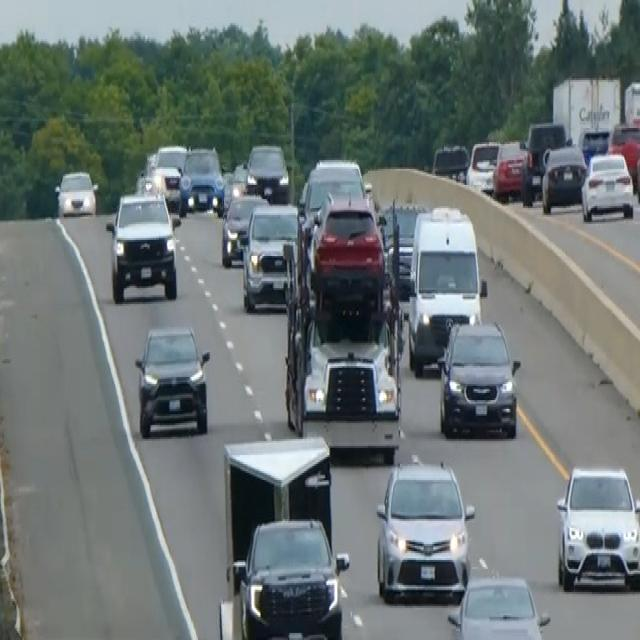car: (374, 453, 475, 603), (233, 514, 349, 638), (555, 462, 639, 592), (436, 317, 521, 439), (310, 192, 386, 315), (134, 322, 211, 437), (105, 188, 179, 302), (240, 201, 304, 311), (446, 572, 550, 638), (384, 195, 428, 294), (520, 119, 566, 205), (580, 150, 634, 222), (220, 190, 268, 267), (540, 140, 587, 213), (178, 144, 224, 215), (245, 140, 290, 201), (492, 137, 528, 201), (54, 167, 98, 219), (152, 142, 187, 206), (607, 119, 639, 187), (465, 137, 500, 194), (431, 140, 469, 182), (221, 158, 249, 210), (578, 125, 610, 164), (134, 165, 166, 199), (154, 142, 187, 172), (635, 139, 639, 208)
lorry: (281, 194, 406, 462)
minibus: (406, 201, 487, 375)
